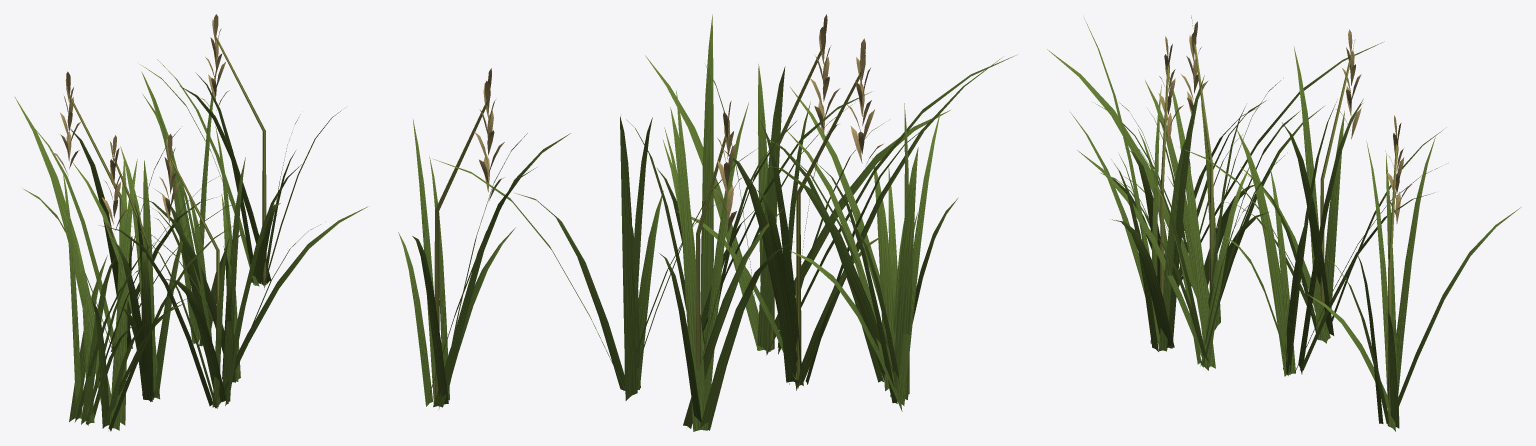
The model's file is MeadowFescue_A.fbx.
3 views of the same model, side by side, from view 1: azimuth 30°, elevation 25°; view 2: azimuth 150°, elevation 25°; view 3: azimuth 270°, elevation 25° (orthographic). The views are drawn at different scales.
Visible parts, largest first — view 1: MeadowFescue_A_LOD0; view 2: MeadowFescue_A_LOD0; view 3: MeadowFescue_A_LOD0.
Boxes of the visible parts, <box> form: MeadowFescue_A_LOD0: <box>14,14,367,431</box>; MeadowFescue_A_LOD0: <box>398,14,1017,431</box>; MeadowFescue_A_LOD0: <box>1047,15,1521,431</box>.
Size of what is drawn, in the model's own units: 36.73 by 27.14 by 39.92.
1 material, 1 textured.
